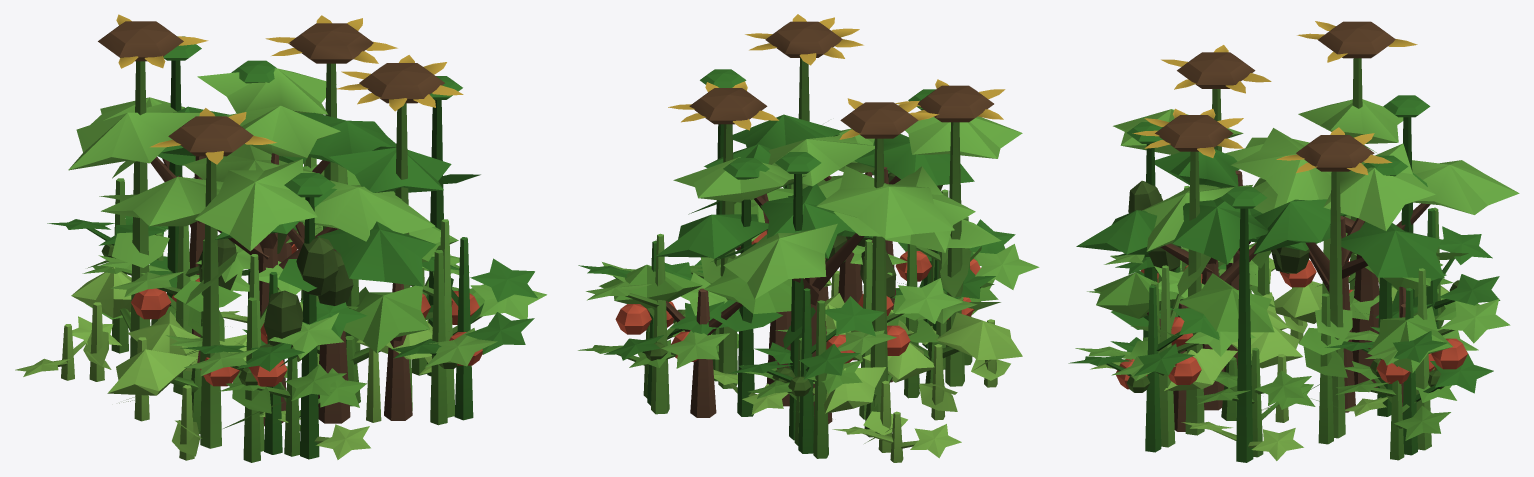
The model's file is crops-summer.glb.
3 renders of one model, left to right at view 1: azimuth 30°, elevation 25°; view 2: azimuth 150°, elevation 25°; view 3: azimuth 270°, elevation 25°, orthographic. The views are drawn at different scales.
Parts seen in each view (by area): view 1: SM_crop_avocado_s4, SM_crop_sunflower_s4, SM_crop_tomato_s4, SM_crop_avocado_s3, SM_crop_tomato_s3, SM_crop_sunflower_s3, SM_crop_avocado_s1, SM_crop_sunflower_s2, SM_crop_avocado_s2, SM_crop_tomato_s2, SM_crop_sunflower_s1, SM_crop_tomato_s1; view 2: SM_crop_avocado_s4, SM_crop_sunflower_s4, SM_crop_tomato_s4, SM_crop_avocado_s3, SM_crop_tomato_s3, SM_crop_sunflower_s3, SM_crop_avocado_s2, SM_crop_avocado_s1, SM_crop_sunflower_s2, SM_crop_sunflower_s1, SM_crop_tomato_s2, SM_crop_tomato_s1; view 3: SM_crop_avocado_s4, SM_crop_avocado_s3, SM_crop_sunflower_s4, SM_crop_tomato_s3, SM_crop_tomato_s4, SM_crop_sunflower_s3, SM_crop_avocado_s2, SM_crop_tomato_s2, SM_crop_avocado_s1, SM_crop_sunflower_s2, SM_crop_tomato_s1, SM_crop_sunflower_s1.
Part boxes in pixels (bbox=[...]): SM_crop_avocado_s4: bbox=[68, 68, 435, 426]; SM_crop_sunflower_s4: bbox=[98, 14, 463, 448]; SM_crop_tomato_s4: bbox=[98, 156, 546, 451]; SM_crop_avocado_s3: bbox=[161, 106, 451, 423]; SM_crop_tomato_s3: bbox=[47, 216, 537, 454]; SM_crop_sunflower_s3: bbox=[149, 36, 480, 459]; SM_crop_avocado_s1: bbox=[71, 267, 432, 433]; SM_crop_sunflower_s2: bbox=[85, 178, 447, 462]; SM_crop_avocado_s2: bbox=[278, 164, 458, 420]; SM_crop_tomato_s2: bbox=[82, 232, 485, 456]; SM_crop_sunflower_s1: bbox=[83, 302, 381, 460]; SM_crop_tomato_s1: bbox=[15, 302, 431, 459]; SM_crop_avocado_s4: bbox=[673, 113, 1022, 423]; SM_crop_sunflower_s4: bbox=[668, 14, 1005, 411]; SM_crop_tomato_s4: bbox=[586, 184, 1039, 419]; SM_crop_avocado_s3: bbox=[655, 114, 974, 406]; SM_crop_tomato_s3: bbox=[578, 185, 1015, 453]; SM_crop_sunflower_s3: bbox=[688, 69, 935, 440]; SM_crop_avocado_s2: bbox=[599, 188, 828, 417]; SM_crop_avocado_s1: bbox=[804, 278, 1022, 437]; SM_crop_sunflower_s2: bbox=[707, 216, 994, 458]; SM_crop_sunflower_s1: bbox=[831, 270, 1010, 452]; SM_crop_tomato_s2: bbox=[578, 257, 998, 445]; SM_crop_tomato_s1: bbox=[713, 326, 961, 462]; SM_crop_avocado_s4: bbox=[1113, 99, 1519, 387]; SM_crop_avocado_s3: bbox=[1076, 149, 1444, 412]; SM_crop_sunflower_s4: bbox=[1132, 21, 1417, 438]; SM_crop_tomato_s3: bbox=[1068, 208, 1500, 455]; SM_crop_tomato_s4: bbox=[1075, 185, 1510, 450]; SM_crop_sunflower_s3: bbox=[1111, 95, 1446, 462]; SM_crop_avocado_s2: bbox=[1093, 263, 1452, 431]; SM_crop_tomato_s2: bbox=[1087, 273, 1479, 460]; SM_crop_avocado_s1: bbox=[1164, 247, 1449, 420]; SM_crop_sunflower_s2: bbox=[1129, 207, 1468, 444]; SM_crop_tomato_s1: bbox=[1090, 359, 1387, 460]; SM_crop_sunflower_s1: bbox=[1262, 287, 1307, 422].
Size of the model in its own units: 1.62 by 1.37 by 1.71.
